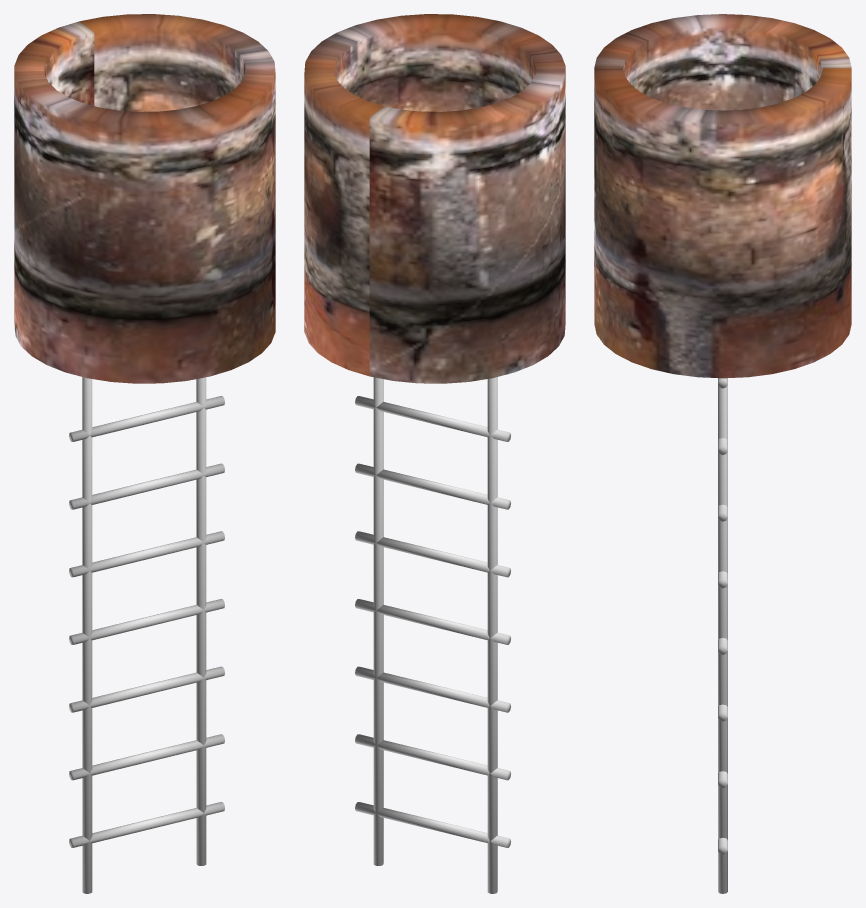
File: Ladder_01.fbx
3 renders of one model, left to right at view 1: azimuth 30°, elevation 25°; view 2: azimuth 150°, elevation 25°; view 3: azimuth 270°, elevation 25°, orthographic.
Parts seen in each view (by area): view 1: Short_Straight.002, Cylinder.010; view 2: Short_Straight.002, Cylinder.010; view 3: Short_Straight.002, Cylinder.010.
Part boxes in pixels (x1=…): Short_Straight.002: x1=14, y1=14, x2=275, y2=383; Cylinder.010: x1=69, y1=374, x2=224, y2=893; Short_Straight.002: x1=304, y1=14, x2=565, y2=383; Cylinder.010: x1=355, y1=374, x2=510, y2=893; Short_Straight.002: x1=594, y1=14, x2=851, y2=378; Cylinder.010: x1=718, y1=378, x2=727, y2=893.
Size of the model in its own units: 512 by 1745 by 512.
